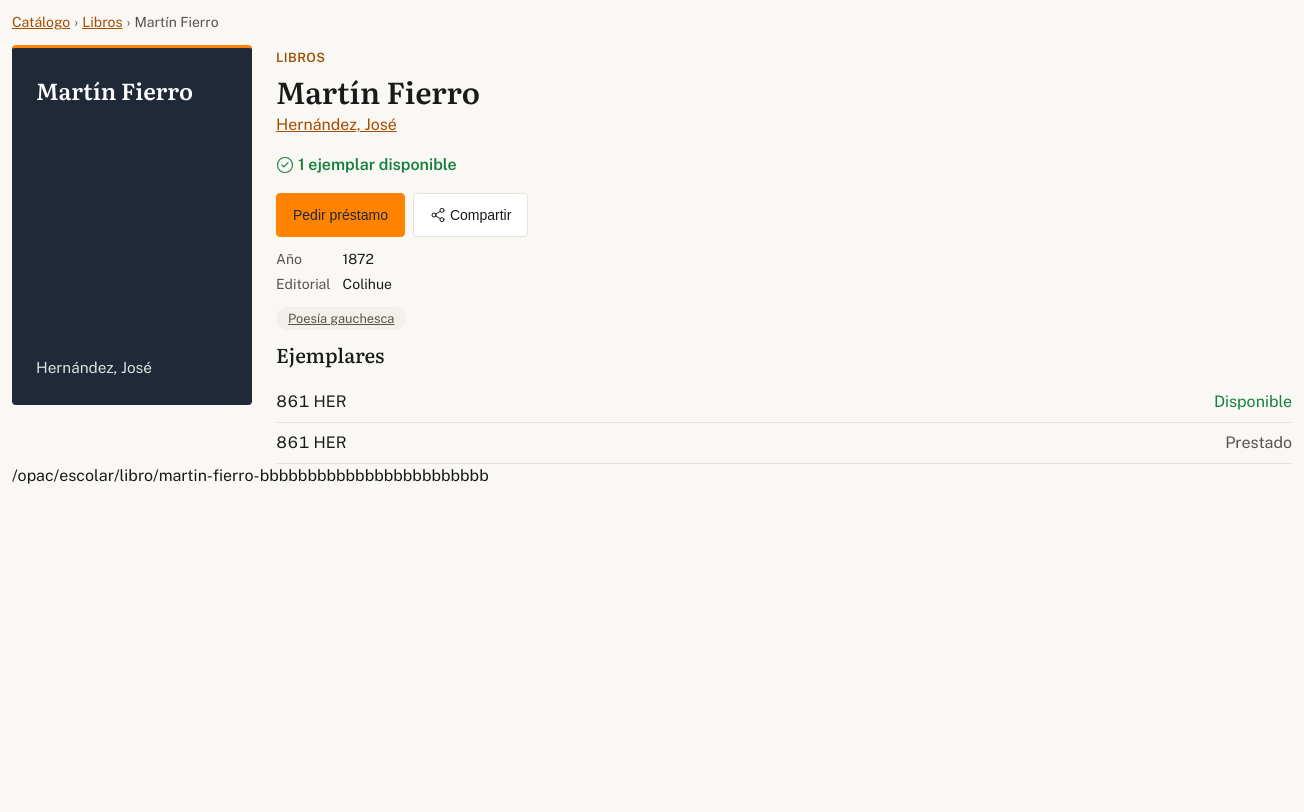
Scenario: FichaMaterial › antes de pedir muestra las reglas de la categoría, y después confirma
This screenshot has width=1304, height=812.
Click the button "Pedir préstamo" at (340, 215), box [276,193,405,237]
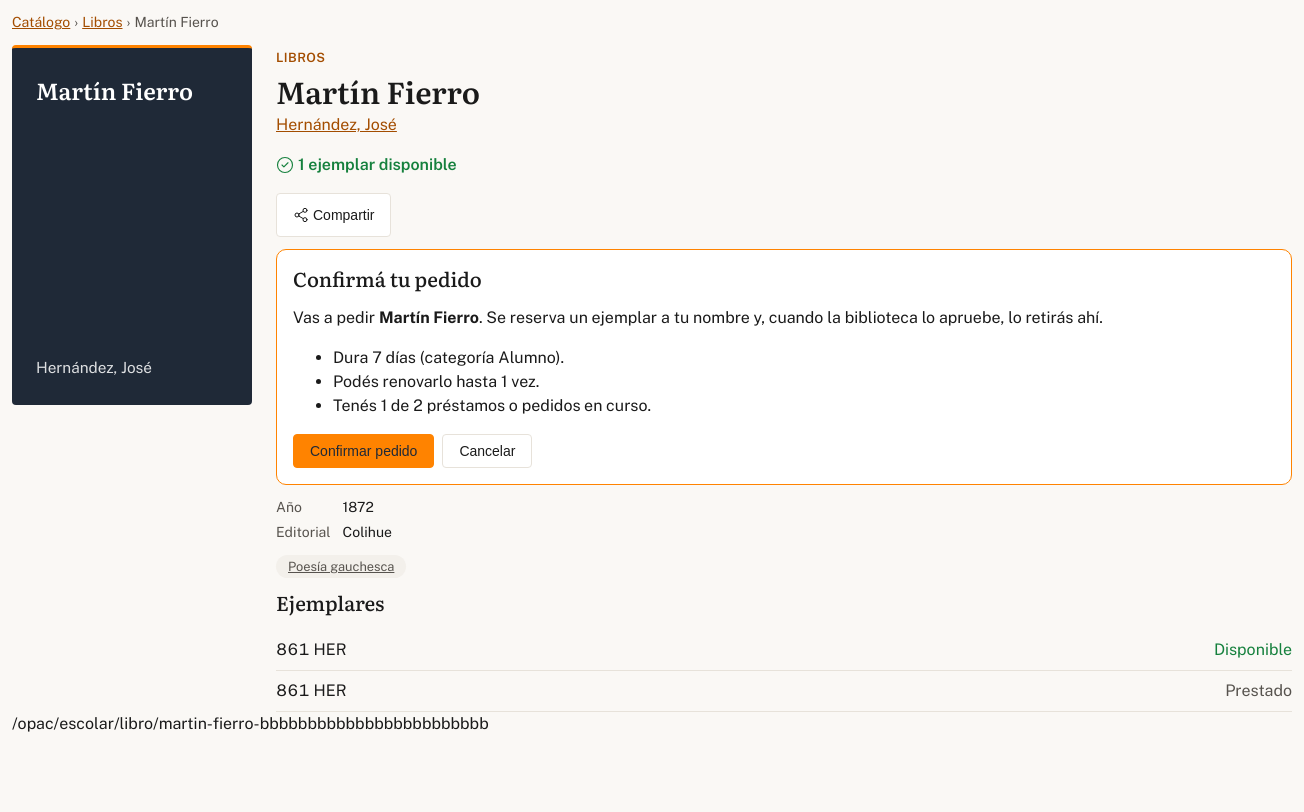
Expected: the list item "Dura 7 días (categoría Alumno)." is shown, [333,348,564,367]
Expected: the list item "Podés renovarlo hasta 1 vez." is shown, [333,372,539,391]
Expected: the list item "Tenés 1 de 2 préstamos o pedidos en curso." is shown, [333,396,651,415]
Click the button "Confirmar pedido" at (364, 451), box [293,434,434,468]
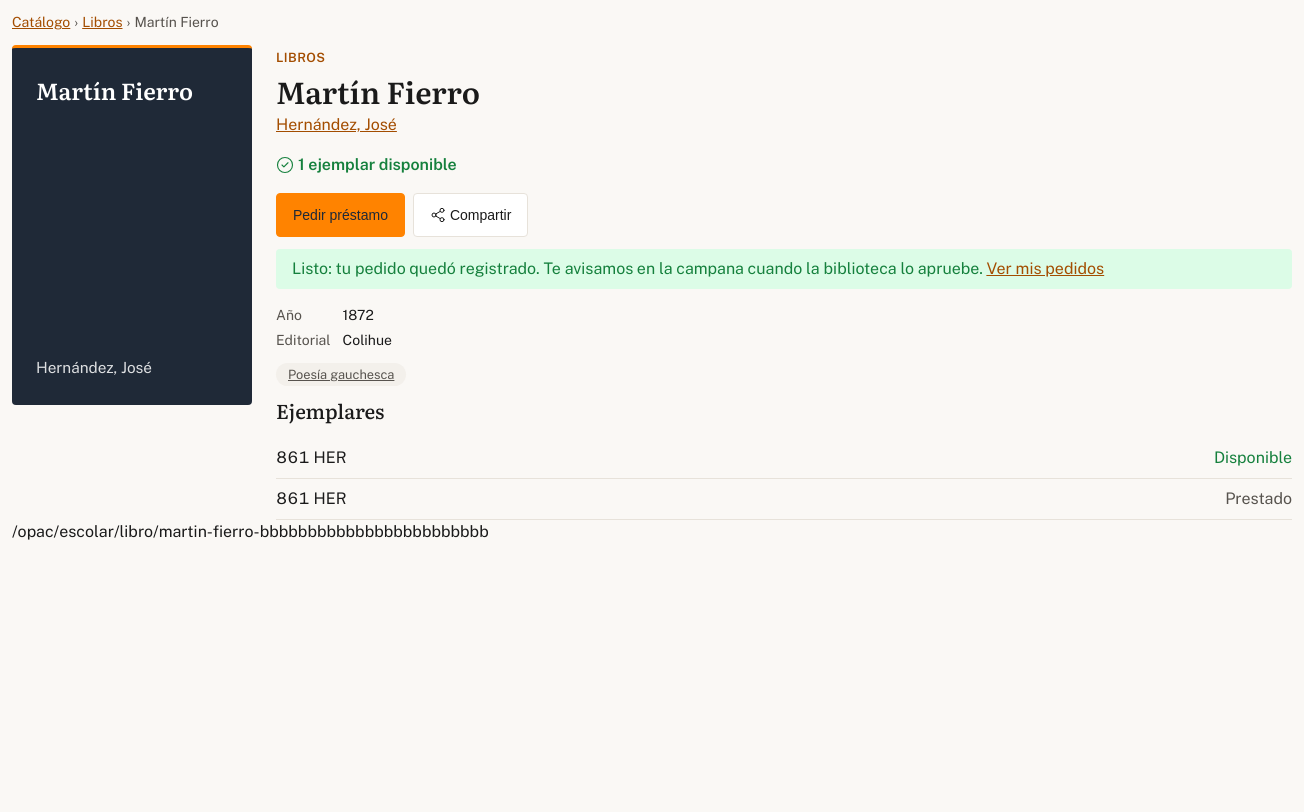
Expected: the text "tu pedido quedó registrado" is shown, [292,259,983,278]
